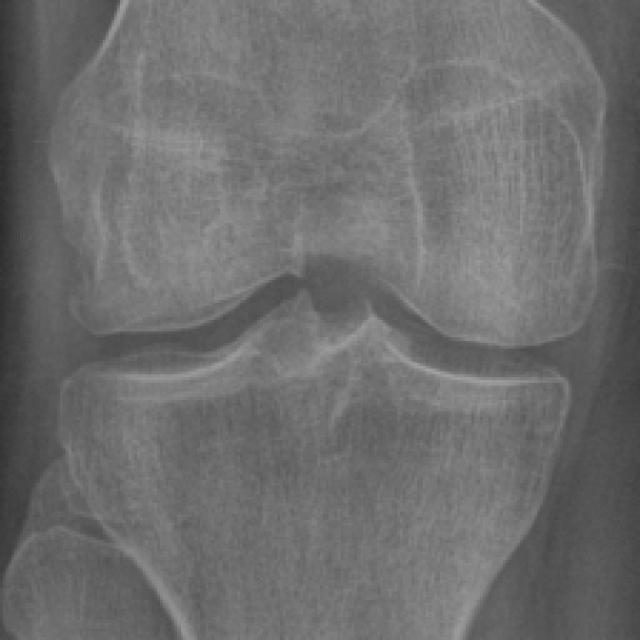femur: (54, 1, 605, 349)
tibia: (57, 294, 570, 637)
